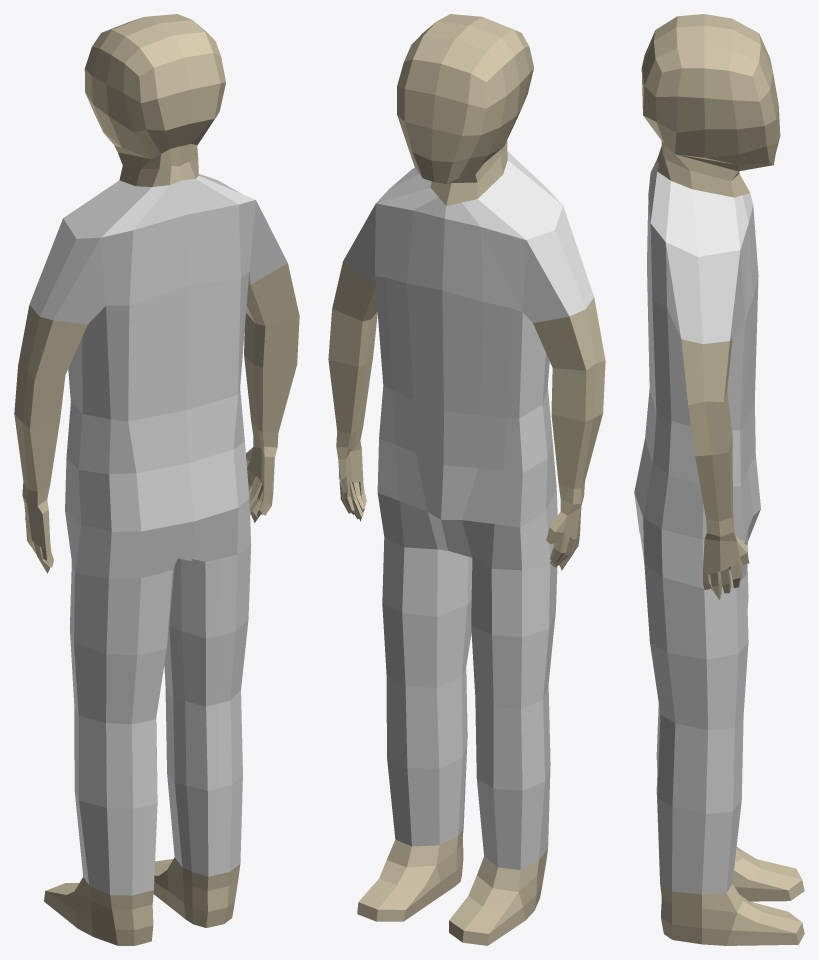
Rendered from HumanFirstDraft.fbx.
The picture shows the model from 3 angles, left to right: view 1: azimuth 30°, elevation 25°; view 2: azimuth 150°, elevation 25°; view 3: azimuth 270°, elevation 25°; orthographic projection. The views are drawn at different scales.
Parts seen in each view (by area): view 1: Cube; view 2: Cube; view 3: Cube.
Part boxes in pixels (left/top/right/bottom): Cube: left=14, top=14, right=299, bottom=945; Cube: left=328, top=14, right=605, bottom=945; Cube: left=634, top=14, right=804, bottom=945.
Bounding box in the file's own units: 5.11 × 16.39 × 2.86.
